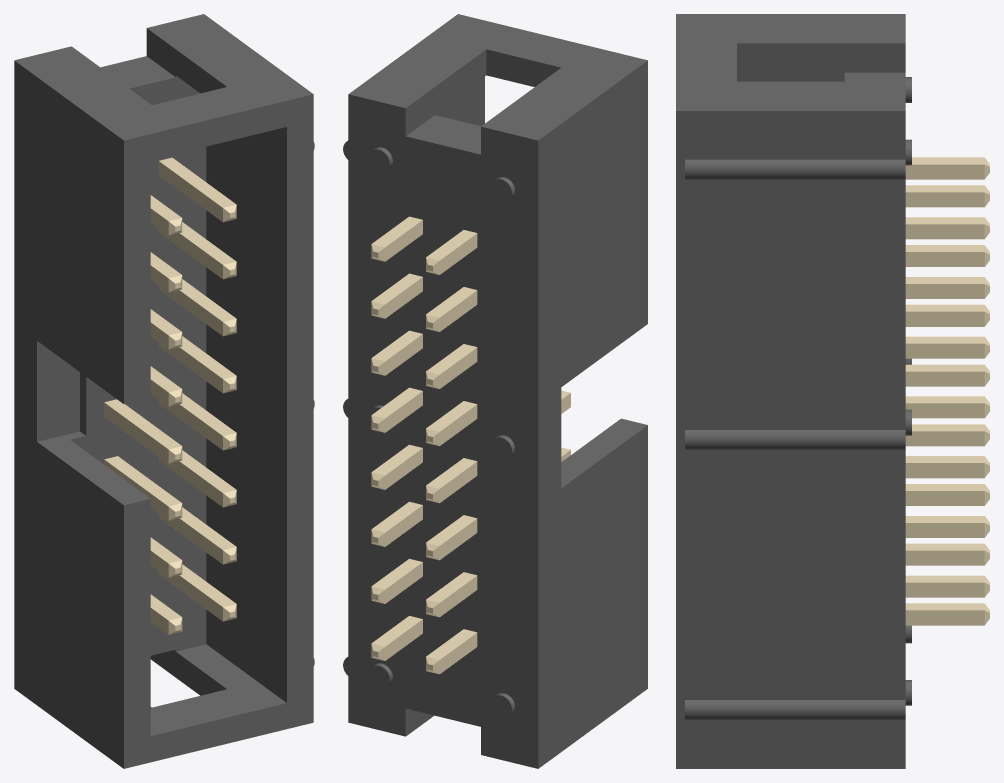
Rendered from IDC-Header_2x08_P2.54mm_Vertical.glb.
The picture shows the model from 3 angles, left to right: view 1: azimuth 30°, elevation 25°; view 2: azimuth 150°, elevation 25°; view 3: azimuth 270°, elevation 25°; orthographic projection. The views are drawn at different scales.
Visible parts, largest first — view 1: Shape_IndexedFaceSet, Shape_IndexedFaceSet.002, Shape_IndexedFaceSet.014, Shape_IndexedFaceSet.017, Shape_IndexedFaceSet.001, Shape_IndexedFaceSet.013, Shape_IndexedFaceSet.004, Shape_IndexedFaceSet.005, Shape_IndexedFaceSet.011, Shape_IndexedFaceSet.019, Shape_IndexedFaceSet.026, Shape_IndexedFaceSet.085 (+19 smaller); view 2: Shape_IndexedFaceSet.007, Shape_IndexedFaceSet, Shape_IndexedFaceSet.001, Shape_IndexedFaceSet.011, Shape_IndexedFaceSet.005, Shape_IndexedFaceSet.026, Shape_IndexedFaceSet.010, Shape_IndexedFaceSet.014, Shape_IndexedFaceSet.085, Shape_IndexedFaceSet.071, Shape_IndexedFaceSet.075, Shape_IndexedFaceSet.089 (+28 smaller); view 3: Shape_IndexedFaceSet.008, Shape_IndexedFaceSet.001, Shape_IndexedFaceSet.009, Shape_IndexedFaceSet.023, Shape_IndexedFaceSet.024, Shape_IndexedFaceSet.025, Shape_IndexedFaceSet.016, Shape_IndexedFaceSet.158, Shape_IndexedFaceSet.046, Shape_IndexedFaceSet.074, Shape_IndexedFaceSet.102, Shape_IndexedFaceSet.144 (+28 smaller).
Part boxes in pixels (bbox=[...]): Shape_IndexedFaceSet: bbox=[14, 60, 123, 768]; Shape_IndexedFaceSet.002: bbox=[124, 94, 313, 768]; Shape_IndexedFaceSet.014: bbox=[206, 127, 286, 702]; Shape_IndexedFaceSet.017: bbox=[70, 76, 206, 655]; Shape_IndexedFaceSet.001: bbox=[14, 14, 313, 140]; Shape_IndexedFaceSet.013: bbox=[150, 644, 286, 736]; Shape_IndexedFaceSet.004: bbox=[37, 341, 79, 441]; Shape_IndexedFaceSet.005: bbox=[37, 431, 150, 505]; Shape_IndexedFaceSet.011: bbox=[146, 28, 226, 93]; Shape_IndexedFaceSet.019: bbox=[150, 649, 226, 695]; Shape_IndexedFaceSet.026: bbox=[100, 56, 175, 88]; Shape_IndexedFaceSet.085: bbox=[104, 402, 168, 463]; Shape_IndexedFaceSet.007: bbox=[343, 94, 538, 768]; Shape_IndexedFaceSet: bbox=[538, 60, 647, 768]; Shape_IndexedFaceSet.001: bbox=[349, 14, 647, 140]; Shape_IndexedFaceSet.011: bbox=[405, 49, 486, 135]; Shape_IndexedFaceSet.005: bbox=[561, 418, 647, 487]; Shape_IndexedFaceSet.026: bbox=[406, 115, 480, 154]; Shape_IndexedFaceSet.010: bbox=[486, 49, 560, 86]; Shape_IndexedFaceSet.014: bbox=[435, 76, 484, 126]; Shape_IndexedFaceSet.085: bbox=[439, 393, 570, 502]; Shape_IndexedFaceSet.071: bbox=[439, 450, 570, 559]; Shape_IndexedFaceSet.075: bbox=[426, 447, 570, 545]; Shape_IndexedFaceSet.089: bbox=[426, 390, 570, 488]; Shape_IndexedFaceSet.008: bbox=[676, 111, 905, 768]; Shape_IndexedFaceSet.001: bbox=[676, 14, 905, 110]; Shape_IndexedFaceSet.009: bbox=[737, 43, 905, 72]; Shape_IndexedFaceSet.023: bbox=[685, 700, 905, 720]; Shape_IndexedFaceSet.024: bbox=[685, 430, 905, 450]; Shape_IndexedFaceSet.025: bbox=[685, 159, 905, 179]; Shape_IndexedFaceSet.016: bbox=[737, 70, 844, 81]; Shape_IndexedFaceSet.158: bbox=[905, 610, 984, 625]; Shape_IndexedFaceSet.046: bbox=[905, 582, 984, 597]; Shape_IndexedFaceSet.074: bbox=[905, 463, 984, 478]; Shape_IndexedFaceSet.102: bbox=[905, 343, 984, 358]; Shape_IndexedFaceSet.144: bbox=[905, 224, 984, 239].
Size of the model in its own units: 3.58 by 11.02 by 4.76.
